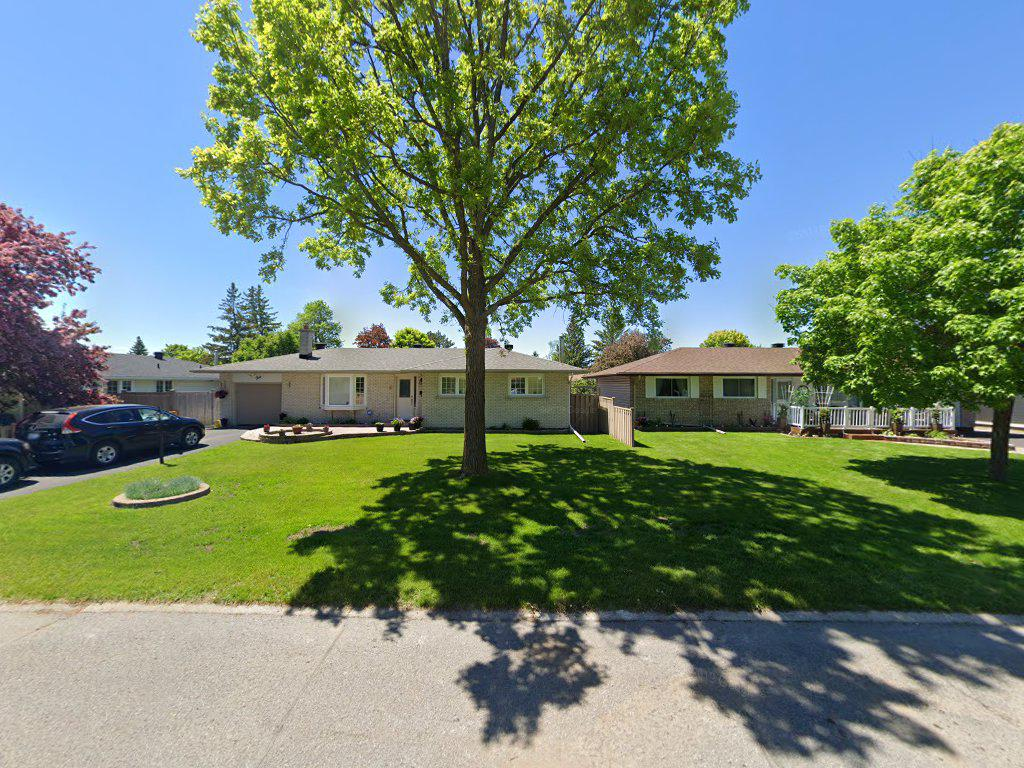trunk: (459, 268, 496, 481), (992, 402, 1015, 475)
